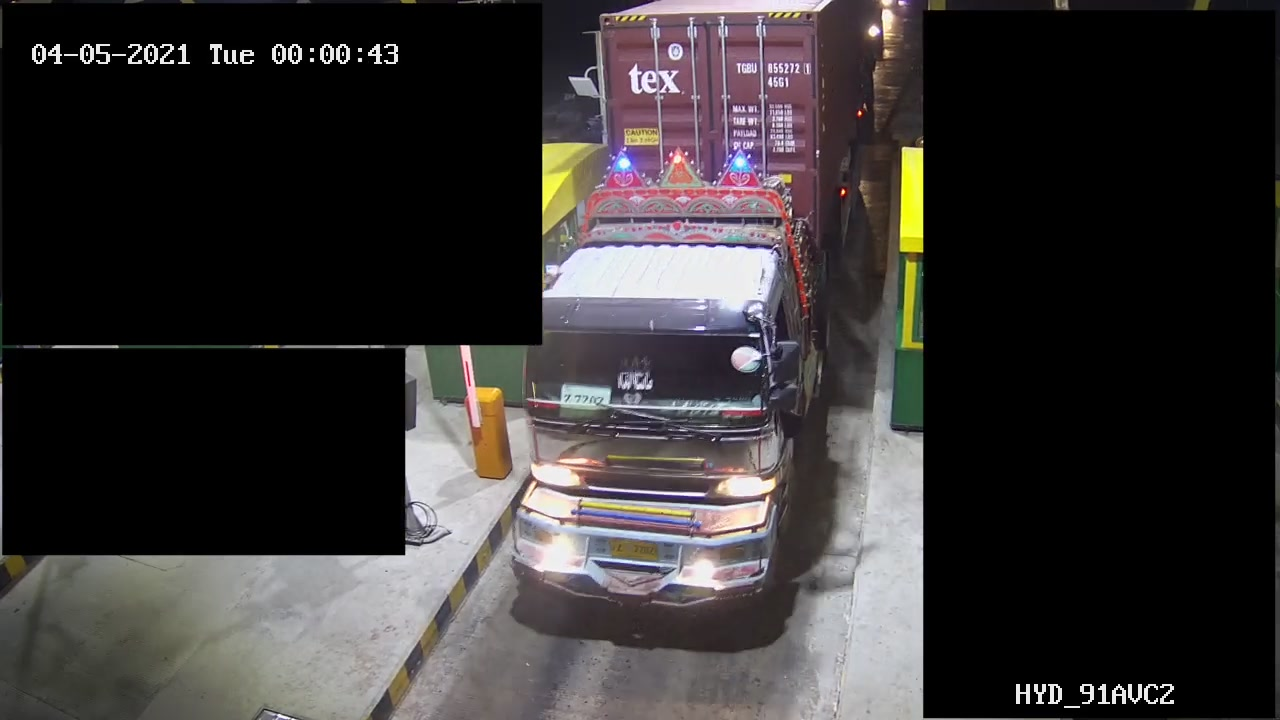F6: (483, 1, 874, 630)
